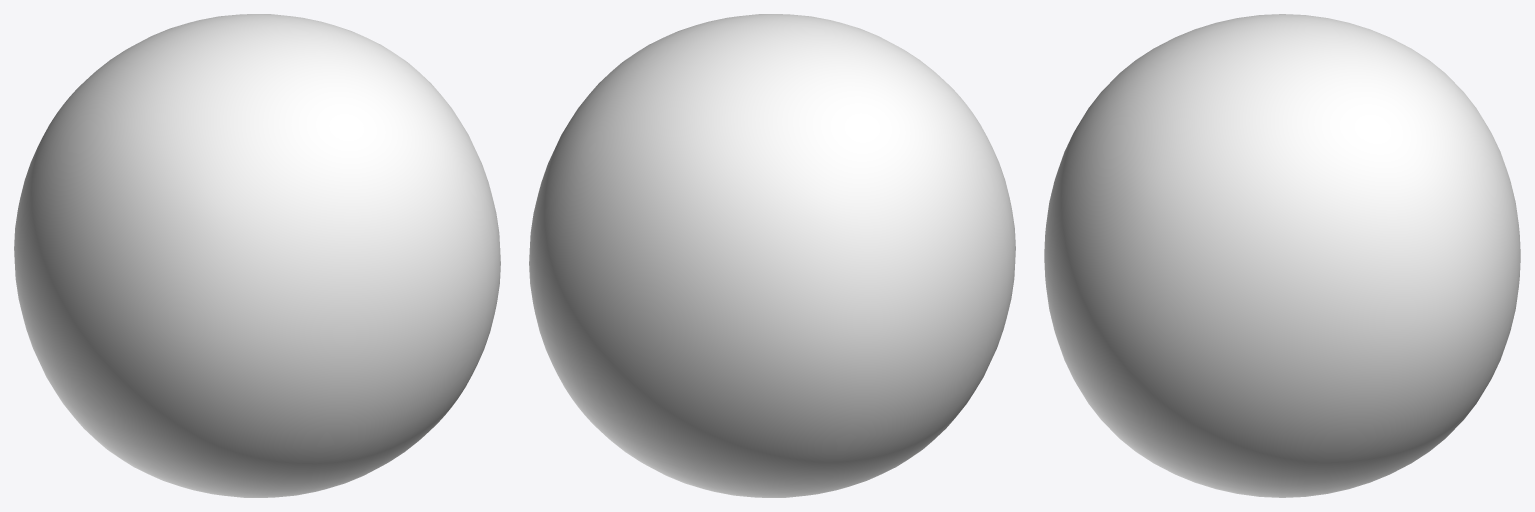
Rendered from ball.obj.
3 renders of one model, left to right at view 1: azimuth 30°, elevation 25°; view 2: azimuth 150°, elevation 25°; view 3: azimuth 270°, elevation 25°, orthographic.
Parts seen in each view (by area): view 1: Cube_Cube.001; view 2: Cube_Cube.001; view 3: Cube_Cube.001.
Part boxes in pixels (box(x1,y1,x2,y2)): Cube_Cube.001: box(14, 14, 500, 497); Cube_Cube.001: box(529, 14, 1015, 497); Cube_Cube.001: box(1044, 14, 1520, 497).
Size of the model in its own units: 1.68 by 1.68 by 1.68.
Materials: 1 (1 with a texture image).
